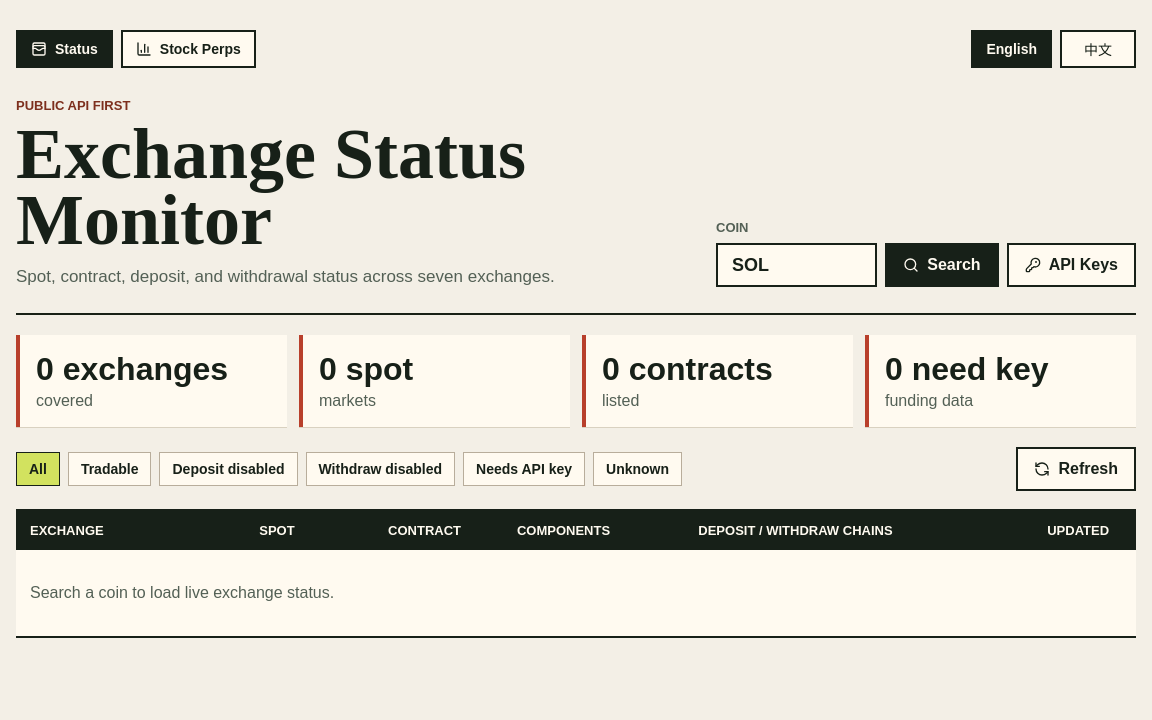
Test: App › switches languages manually
Click the button "中文" at (1098, 49), box [1060, 30, 1136, 68]
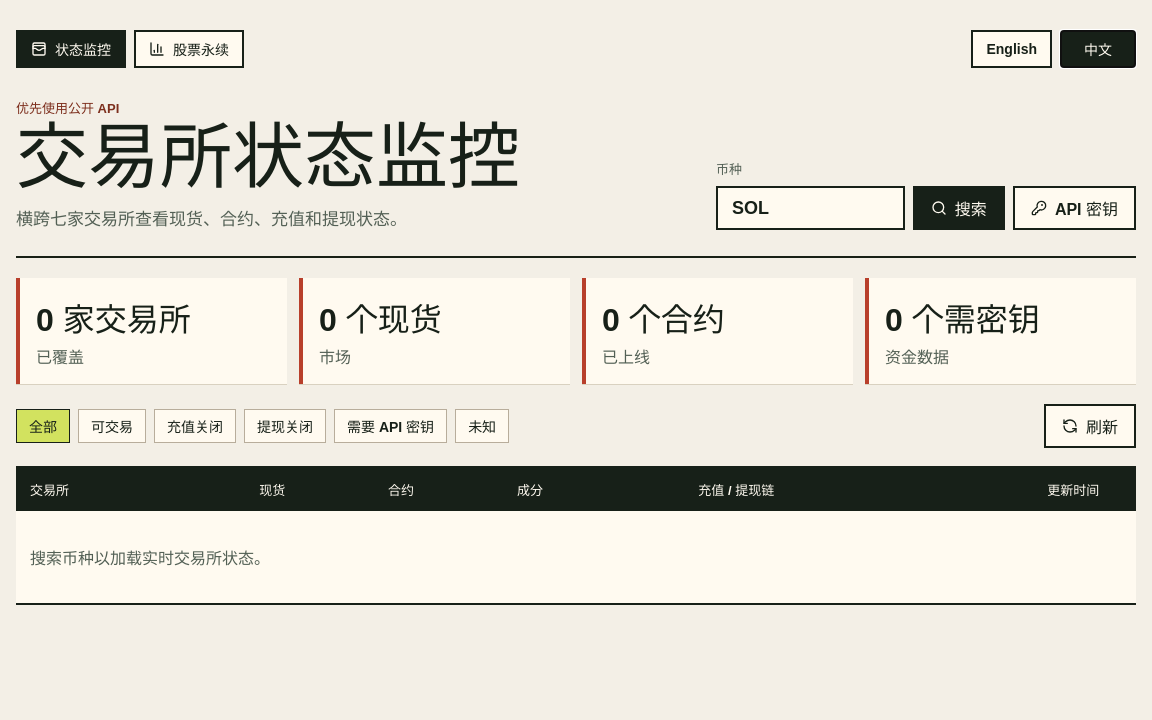
Check: the heading "交易所状态监控" is shown, box [16, 118, 520, 198]
Check: the button "搜索" is shown, box [913, 186, 1005, 230]
